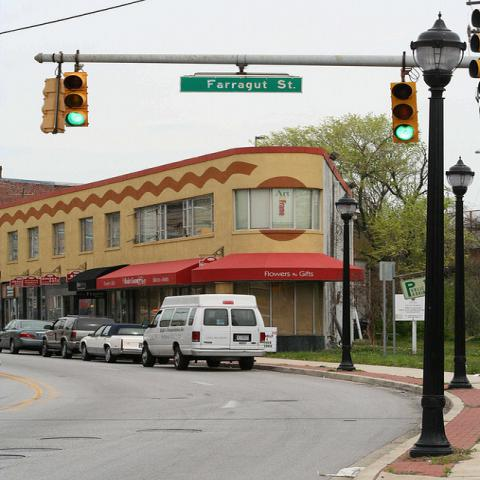car: (42, 315, 116, 359), (79, 324, 150, 363), (0, 319, 54, 354)
truck: (140, 295, 275, 371), (38, 314, 117, 358)
